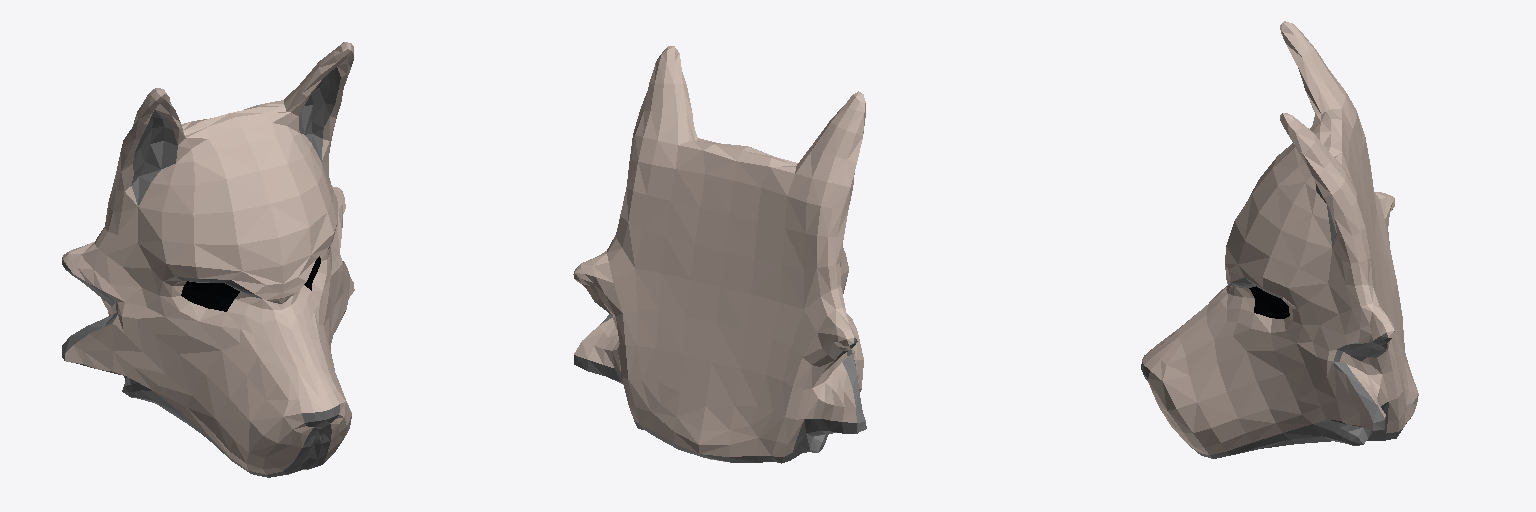
The model's file is wolfMask.obj.
3 views of the same model, side by side, from view 1: azimuth 30°, elevation 25°; view 2: azimuth 150°, elevation 25°; view 3: azimuth 270°, elevation 25° (orthographic).
Visible parts, largest first — view 1: Mask group1; view 2: Mask group1; view 3: Mask group1.
Part boxes in pixels (x1,y1,x2,y2): Mask group1: (62,42,354,477); Mask group1: (573,46,866,463); Mask group1: (1141,21,1418,458).
Size of the model in its own units: 23.09 by 28.62 by 19.13.